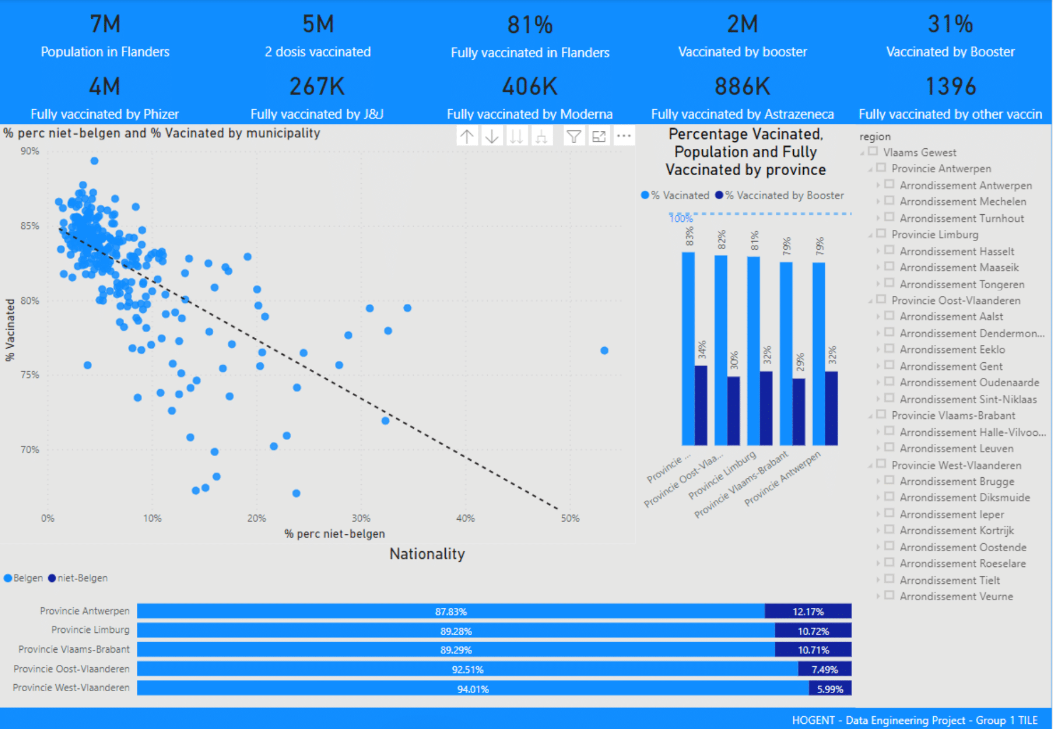

The dashboard page shown, as its layout file describes it:
{"tool":"powerbi","page":{"name":"ScatterVac%NietBelg","canvas":[1280,890],"ordinal":1},"visuals":[{"type":"textbox","box":[945.4,861.8,334.6,38],"z":0},{"type":"card","fields":{"Values":["fact_vaccinations_by_nis_code_daily_updated.% Vacinated"]},"box":[515.8,0,258.5,78.6],"z":1000,"group":"g1"},{"type":"scatterChart","fields":{"X":["fact_demographics_by_nis_code_and_category.% perc niet-belgen"],"Category":["region_hierarchy.region Hiërarchie.region","region_hierarchy.region Hiërarchie.province","region_hierarchy.region Hiërarchie.district","region_hierarchy.region Hiërarchie.municipality"],"Y":["fact_vaccinations_by_nis_code_daily_updated.% Vacinated"]},"box":[0,151.8,774,510.6],"z":1000},{"type":"card","fields":{"Values":["Sum(fact_vaccinations_by_nis_code_daily_updated.vaccinated_fully_total)"]},"box":[258.5,0,258.5,76],"z":2000,"group":"g1"},{"type":"HierarchySlicer1458836712039","fields":{"Fields":["region_hierarchy.region Hiërarchie.region","region_hierarchy.region Hiërarchie.province","region_hierarchy.region Hiërarchie.district","region_hierarchy.region Hiërarchie.municipality"]},"box":[1040.7,151.8,238.5,710],"z":2000},{"type":"group","id":"g1","title":"Group 1","box":[0,0,1279.2,152.1],"z":3000},{"type":"card","fields":{"Values":["Sum(fact_vaccinations_by_nis_code_daily_updated.vaccinated_with_booster)"]},"box":[774.3,0,258.5,76],"z":3000,"group":"g1"},{"type":"card","fields":{"Values":["Sum(fact_vaccinations_by_nis_code_daily_updated.vaccinated_fully_pfizer)"]},"box":[0,76,257.3,76],"z":4000,"group":"g1"},{"type":"hundredPercentStackedBarChart","title":"Nationality","fields":{"Category":["region_hierarchy.region Hiërarchie.region","region_hierarchy.region Hiërarchie.province","region_hierarchy.region Hiërarchie.district","region_hierarchy.region Hiërarchie.municipality"],"Y":["Sum(fact_demographics_by_nis_code_and_category.population)"],"Series":["fact_demographics_by_nis_code_and_category.nationality_text_nl"]},"box":[0,662.4,1040.7,199.5],"z":4000},{"type":"card","fields":{"Values":["Sum(fact_vaccinations_by_nis_code_daily_updated.vaccinated_fully_astrazeneca)"]},"box":[774,75.9,259.1,75.9],"z":5000,"group":"g1"},{"type":"clusteredColumnChart","title":"Percentage Vacinated, Population and Fully Vaccinated by province","fields":{"Category":["region_hierarchy.region Hiërarchie.province","region_hierarchy.region Hiërarchie.district","region_hierarchy.region Hiërarchie.municipality"],"Y":["fact_vaccinations_by_nis_code_daily_updated.% Vacinated","fact_vaccinations_by_nis_code_daily_updated.% Vaccinated by Booster"]},"box":[774,151.8,266.7,510.6],"z":5000},{"type":"card","fields":{"Values":["Sum(fact_vaccinations_by_nis_code_daily_updated.vaccinated_fully_johnsonandjohnson)"]},"box":[256.9,75.9,259.1,75.9],"z":6000,"group":"g1"},{"type":"card","fields":{"Values":["Sum(fact_vaccinations_by_nis_code_daily_updated.vaccinated_fully_moderna)"]},"box":[516,75.9,258,75.9],"z":7000,"group":"g1"},{"type":"card","fields":{"Values":["Sum(fact_vaccinations_by_nis_code_daily_updated.population_by_agecategory_and_municipality)"]},"box":[0,0,258.5,75.6],"z":8000,"group":"g1"},{"type":"card","fields":{"Values":["Sum(fact_vaccinations_by_nis_code_daily_updated.vaccinated_fully_other)"]},"box":[1033.1,75.9,246.1,75.9],"z":9000,"group":"g1"},{"type":"card","fields":{"Values":["fact_vaccinations_by_nis_code_daily_updated.% Vaccinated by Booster"]},"box":[1032.9,0,245.9,76],"z":10000,"group":"g1"}]}

Visuals, with their boxes in screenshot pixels (x1, y1, x2, y2), scaled from the page's 1280x890 canvas onto the 1054x729 screenshot:
textbox: region(778, 706, 1053, 728)
card - fact_vaccinations_by_nis_code_daily_updated.% Vacinated: region(425, 0, 638, 64)
scatterChart - fact_demographics_by_nis_code_and_category.% perc niet-belgen x region_hierarchy.region Hiërarchie.region: region(0, 124, 637, 543)
card - Sum(fact_vaccinations_by_nis_code_daily_updated.vaccinated_fully_total): region(213, 0, 426, 62)
HierarchySlicer1458836712039 - region_hierarchy.region Hiërarchie.region x region_hierarchy.region Hiërarchie.province: region(857, 124, 1053, 706)
"Group 1" group: region(0, 0, 1053, 125)
card - Sum(fact_vaccinations_by_nis_code_daily_updated.vaccinated_with_booster): region(638, 0, 850, 62)
card - Sum(fact_vaccinations_by_nis_code_daily_updated.vaccinated_fully_pfizer): region(0, 62, 212, 125)
"Nationality" hundredPercentStackedBarChart: region(0, 543, 857, 706)
card - Sum(fact_vaccinations_by_nis_code_daily_updated.vaccinated_fully_astrazeneca): region(637, 62, 851, 124)
"Percentage Vacinated, Population and Fully Vaccinated by province" clusteredColumnChart: region(637, 124, 857, 543)
card - Sum(fact_vaccinations_by_nis_code_daily_updated.vaccinated_fully_johnsonandjohnson): region(212, 62, 425, 124)
card - Sum(fact_vaccinations_by_nis_code_daily_updated.vaccinated_fully_moderna): region(425, 62, 637, 124)
card - Sum(fact_vaccinations_by_nis_code_daily_updated.population_by_agecategory_and_municipality): region(0, 0, 213, 62)
card - Sum(fact_vaccinations_by_nis_code_daily_updated.vaccinated_fully_other): region(851, 62, 1053, 124)
card - fact_vaccinations_by_nis_code_daily_updated.% Vaccinated by Booster: region(851, 0, 1053, 62)
